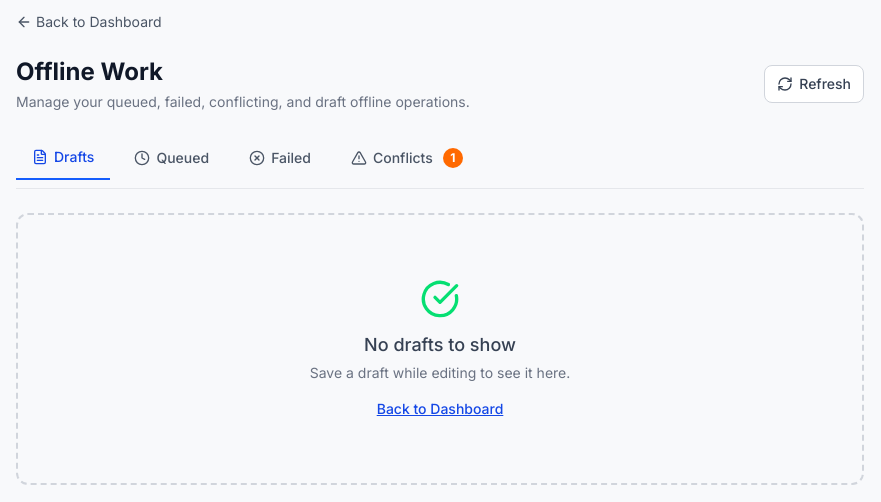
OfflineWorkPage › shows conflict operations and links to conflicts page
# Click Conflicts tab
Click the tab "Conflicts 1".
click(407, 158)  # box [335, 136, 479, 180]
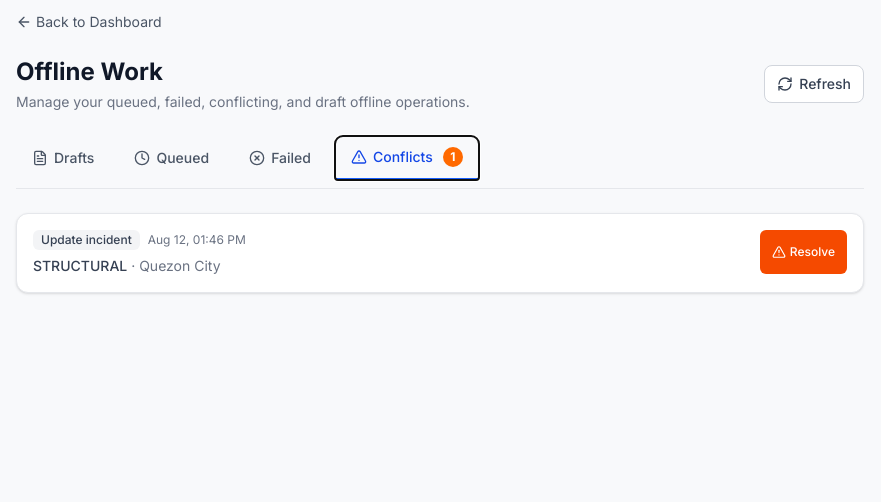
Result: the link "Resolve" is shown at [760, 230, 847, 274]
